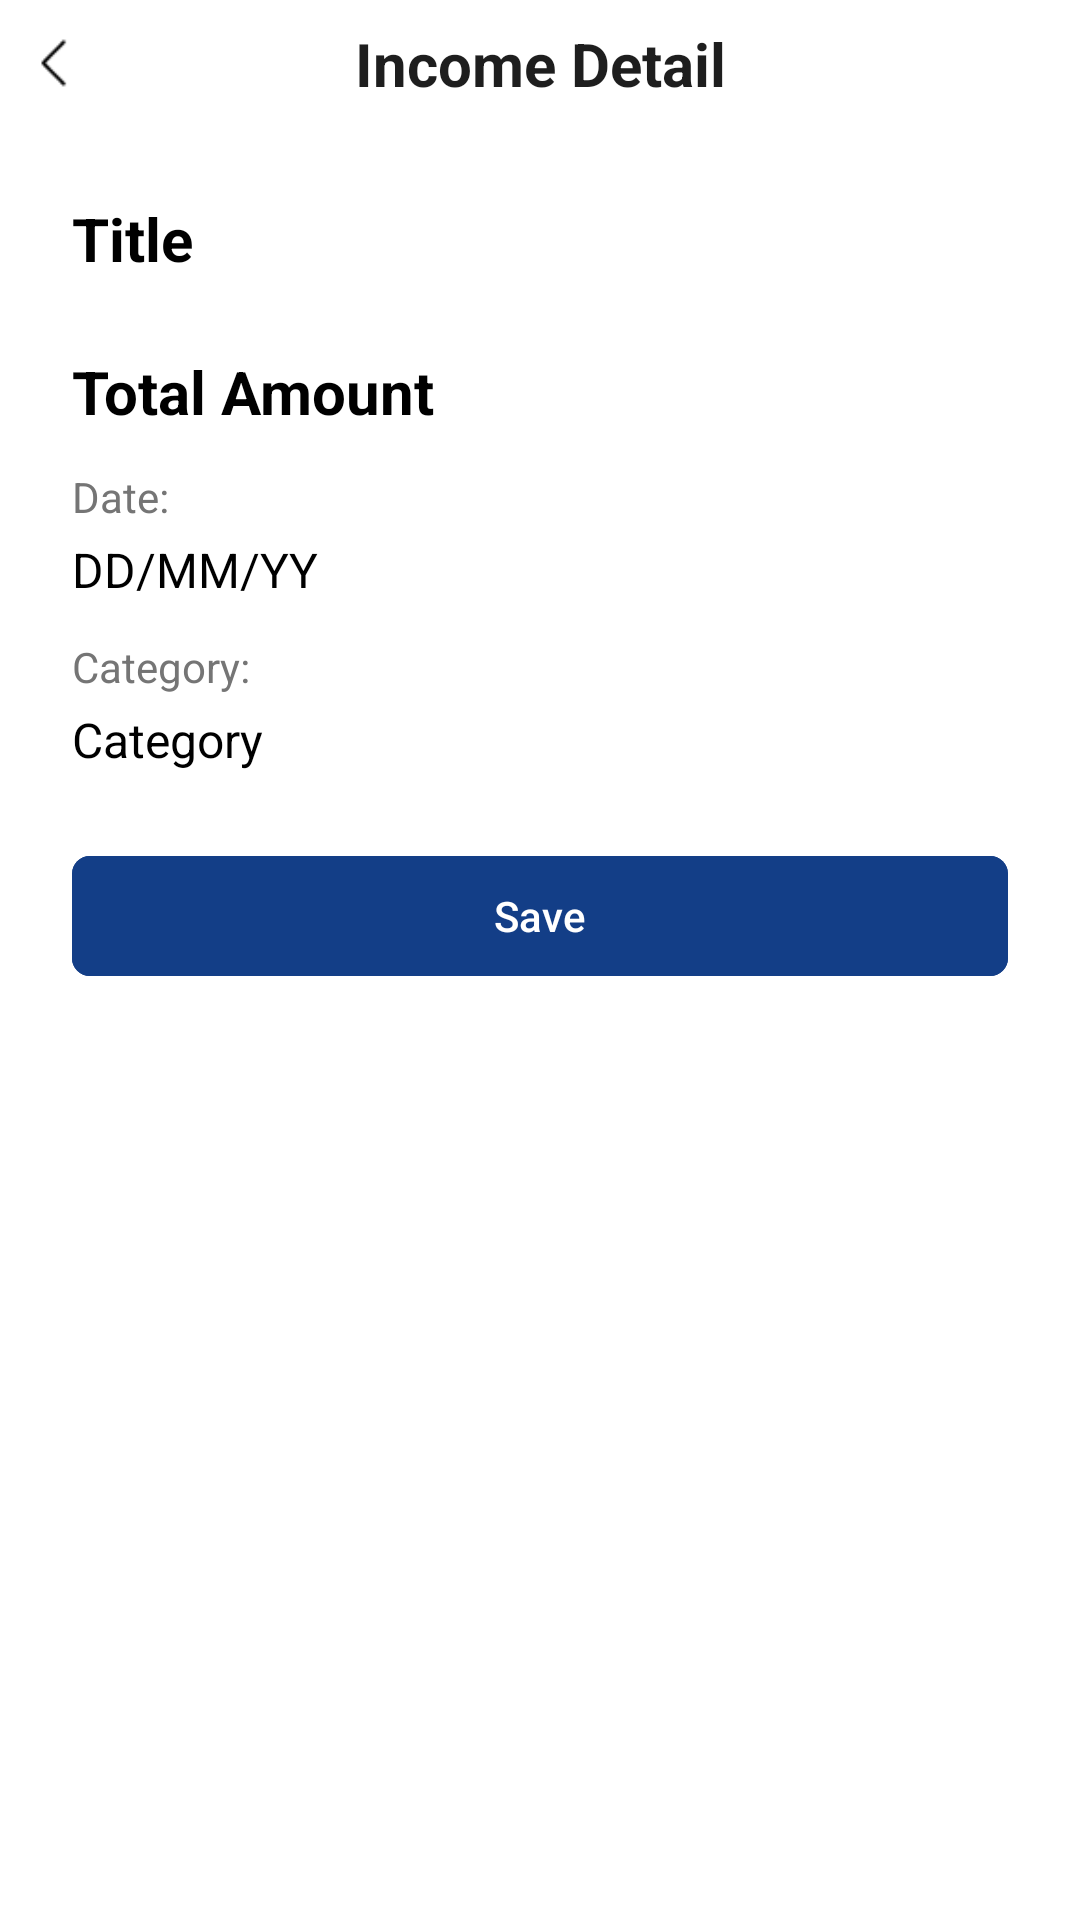

Where to tap for icons on this 1080*1920 app screen, as point (x, y):
back: point (53, 63)
